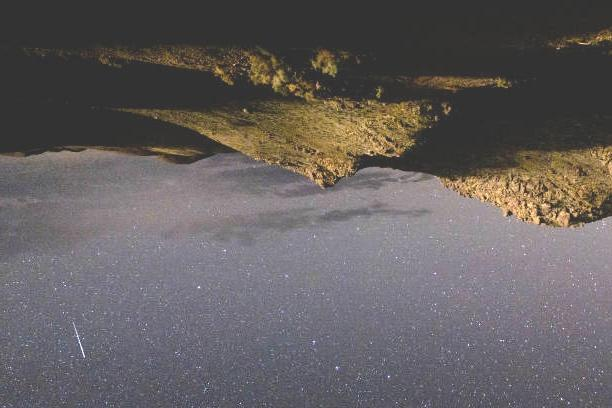meteorite: (64, 319, 97, 361)
